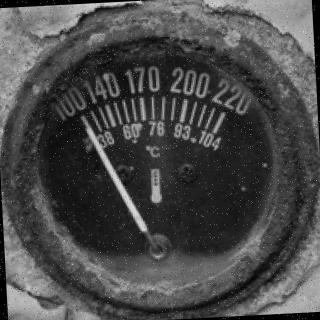gauge: (3, 8, 320, 320), (65, 106, 103, 144), (200, 108, 237, 142), (144, 233, 170, 263), (76, 112, 90, 124)
